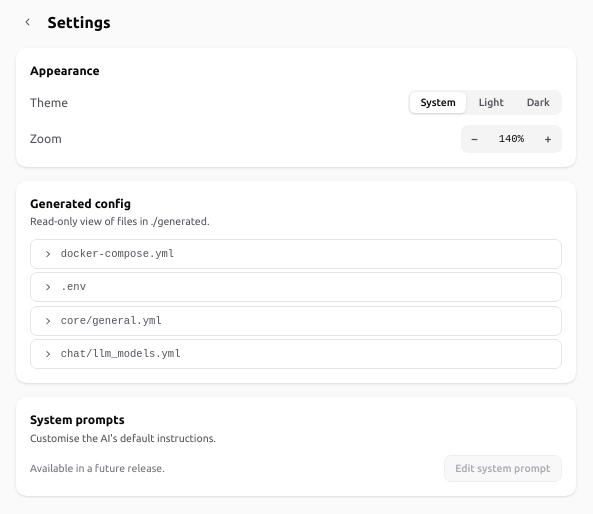
it: settings/+page.svelte › clicking zoom-reset returns display to 100%
Click the button with test id "zoom-reset": (511, 139) [488,130,534,148]
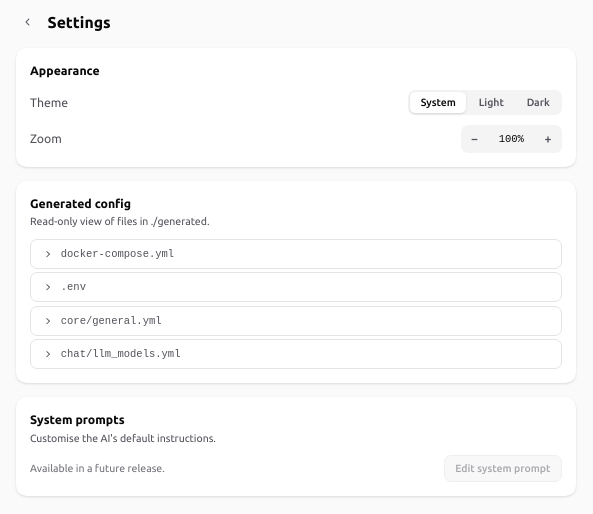
Expected: the button with test id "zoom-reset" reads "100%", [488,130,534,148]
